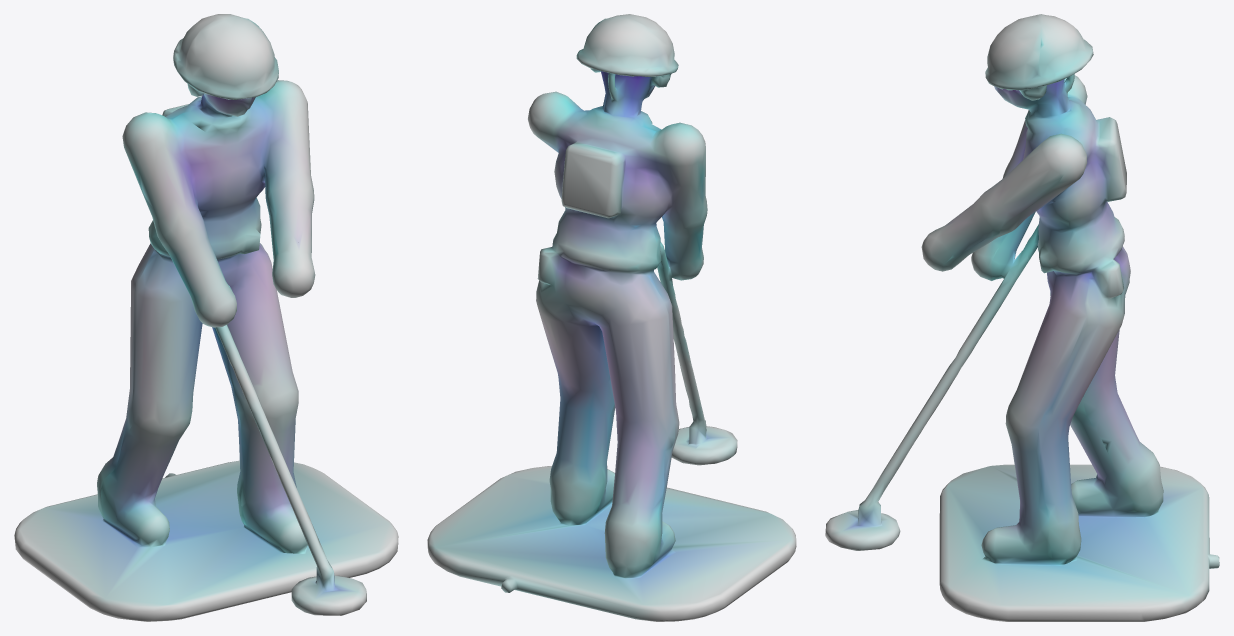
File: minoer-lod1.glb
The picture shows the model from 3 angles, left to right: view 1: azimuth 30°, elevation 25°; view 2: azimuth 150°, elevation 25°; view 3: azimuth 270°, elevation 25°; orthographic projection. The views are drawn at different scales.
Visible parts, largest first — view 1: minoer-lod1; view 2: minoer-lod1; view 3: minoer-lod1.
Boxes of the visible parts, x1,y1,x2,y2 form: minoer-lod1: (14,14,398,621); minoer-lod1: (427,14,796,621); minoer-lod1: (825,14,1219,621).
Size of the model in its own units: 0.4598 by 0.7856 by 0.5262.
